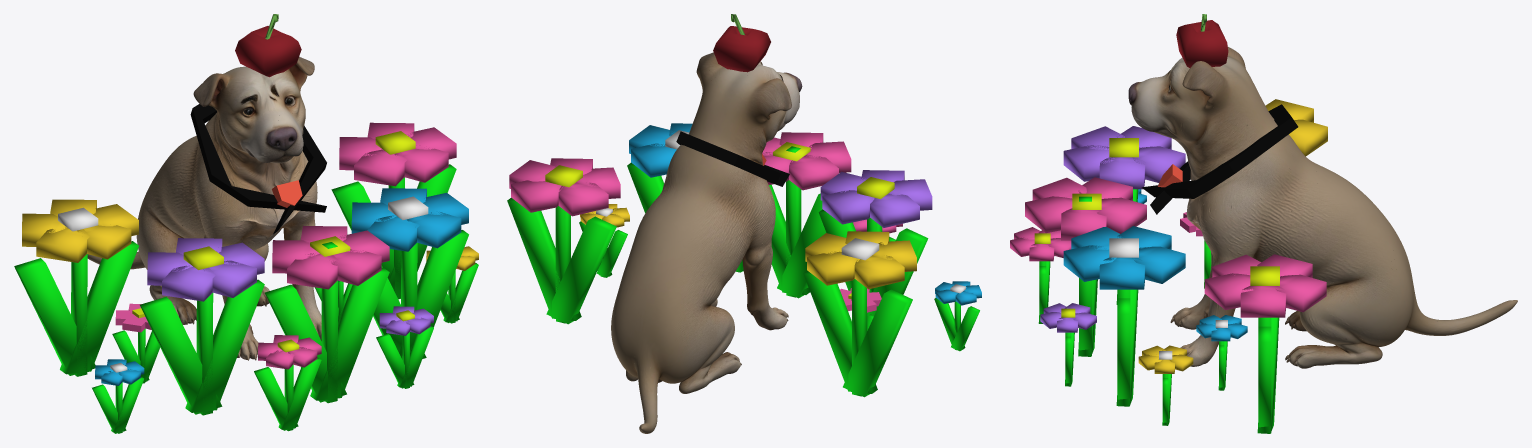
The model's file is asset.glb.
3 views of the same model, side by side, from view 1: azimuth 30°, elevation 25°; view 2: azimuth 150°, elevation 25°; view 3: azimuth 270°, elevation 25° (orthographic). The views are drawn at different scales.
Parts seen in each view (by area): view 1: node_0, Cube.002, Cube.011, Cube.028, Cube.001, Cube.019, Cube.020, Cube.101, Cube.009, Cube.045, Cube.044, Cube.021 (+46 smaller); view 2: node_0, Cube.020, Cube.029, Cube.037, Cube.028, Cube.101, Cube.045, Cube.002, Cube.036, Cube.012, Cube.014, Cube.027 (+28 smaller); view 3: node_0, Cube.002, Cube.101, Cube.009, Cube.004, Cube.037, Cube.032, Cube.006, Cube.034, Cube.041, Cube.033, Cube.005 (+21 smaller).
Part boxes in pixels (x1,y1,x2,y2): node_0: (87,56,321,360); Cube.002: (190,104,326,234); Cube.011: (185,279,264,412); Cube.028: (60,241,138,374); Cube.001: (310,267,389,400); Cube.019: (140,296,222,414); Cube.020: (14,258,95,375); Cube.101: (235,14,301,77); Cube.009: (398,230,468,359); Cube.045: (265,284,346,402); Cube.044: (321,242,337,403); Cube.021: (71,254,87,376); node_0: (611,52,802,433); Cube.020: (843,289,912,397); Cube.029: (546,216,616,324); Cube.037: (507,197,581,320); Cube.028: (803,270,877,393); Cube.101: (713,14,770,72); Cube.045: (777,193,826,298); Cube.002: (676,131,789,186); Cube.036: (558,182,608,216); Cube.012: (870,193,919,227); Cube.014: (822,190,874,224); Cube.027: (854,255,904,289); node_0: (1128,47,1517,368); Cube.002: (1141,104,1298,214); Cube.101: (1176,14,1228,67); Cube.009: (1117,298,1130,401); Cube.004: (1099,257,1145,289); Cube.037: (1258,326,1271,432); Cube.032: (1240,286,1286,317); Cube.006: (1132,246,1185,283); Cube.034: (1276,274,1326,312); Cube.041: (1097,197,1146,233); Cube.033: (1204,273,1253,310); Cube.005: (1063,245,1116,281).
Bounding box in the file's own units: 6.22 × 4.69 × 6.31.
99 materials, 1 textured.
